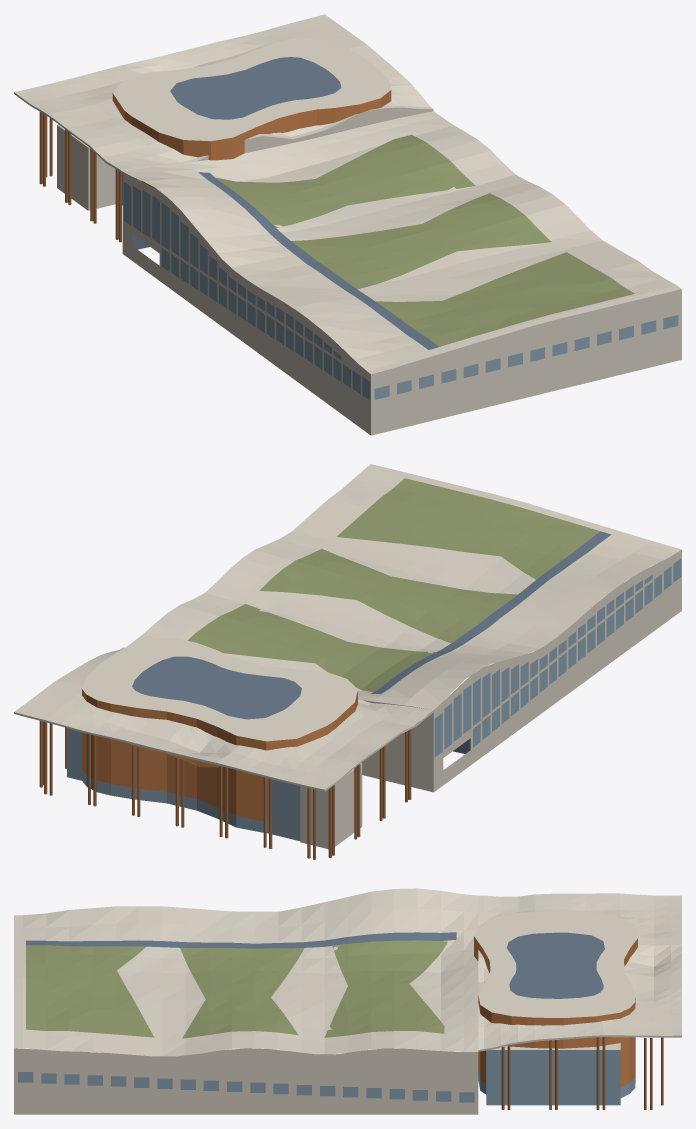
File: nash-music-city-center.glb
3 renders of one model, top to bottom at view 1: azimuth 30°, elevation 25°; view 2: azimuth 150°, elevation 25°; view 3: azimuth 270°, elevation 25°, orthographic. The views are drawn at different scales.
Parts seen in each view (by area): view 1: Music City Center; view 2: Music City Center; view 3: Music City Center.
Part boxes in pixels (bbox=[...]): Music City Center: bbox=[14, 14, 681, 435]; Music City Center: bbox=[14, 464, 681, 859]; Music City Center: bbox=[14, 888, 681, 1114].
Size of the model in its own units: 170 by 48.3 by 338.
